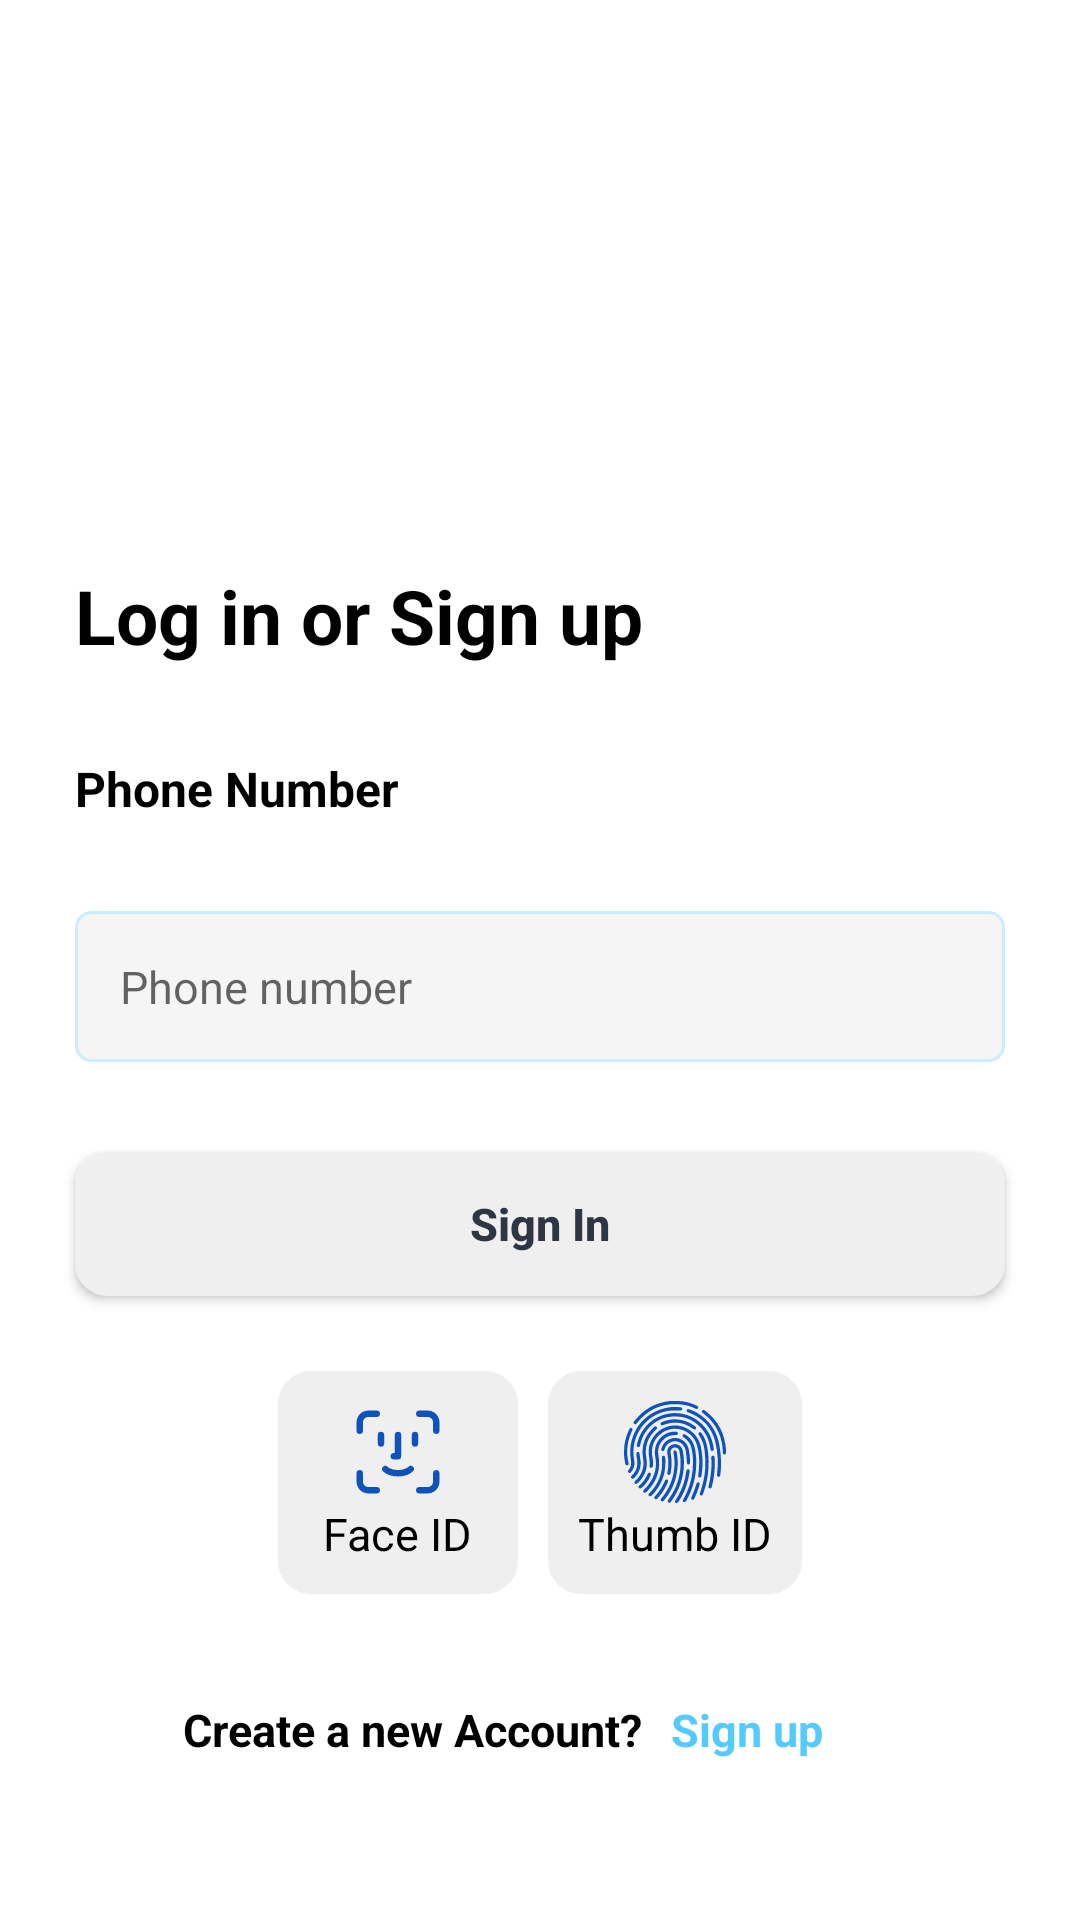

Where icons sit on this 1080x1920 app screen, as bbox=(x1, y1, x2, y2):
touch id: bbox=(624, 1401, 726, 1503)
